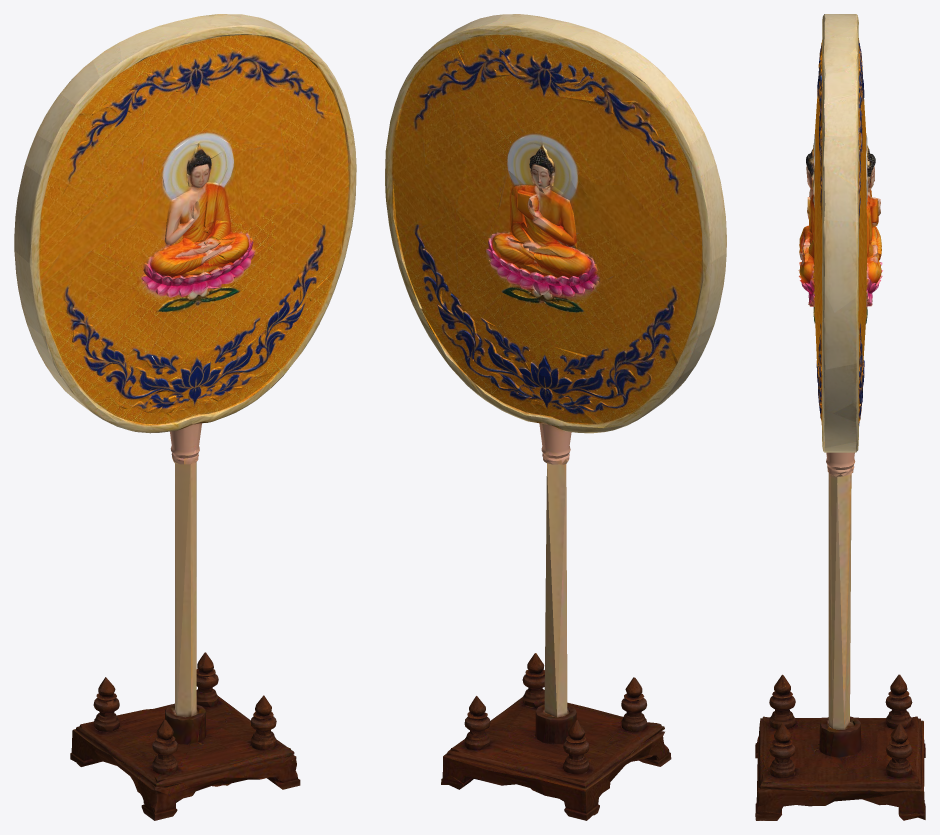
The model's file is w3hfan.glb.
The picture shows the model from 3 angles, left to right: view 1: azimuth 30°, elevation 25°; view 2: azimuth 150°, elevation 25°; view 3: azimuth 270°, elevation 25°; orthographic projection.
Visible parts, largest first — view 1: output_unwrapped; view 2: output_unwrapped; view 3: output_unwrapped.
Part boxes in pixels (<box>): output_unwrapped: <box>14,14,356,820</box>; output_unwrapped: <box>385,14,726,820</box>; output_unwrapped: <box>755,14,925,820</box>.
Size of the model in its own units: 0.5319 by 1.16 by 0.2392.
1 material, 1 textured.
